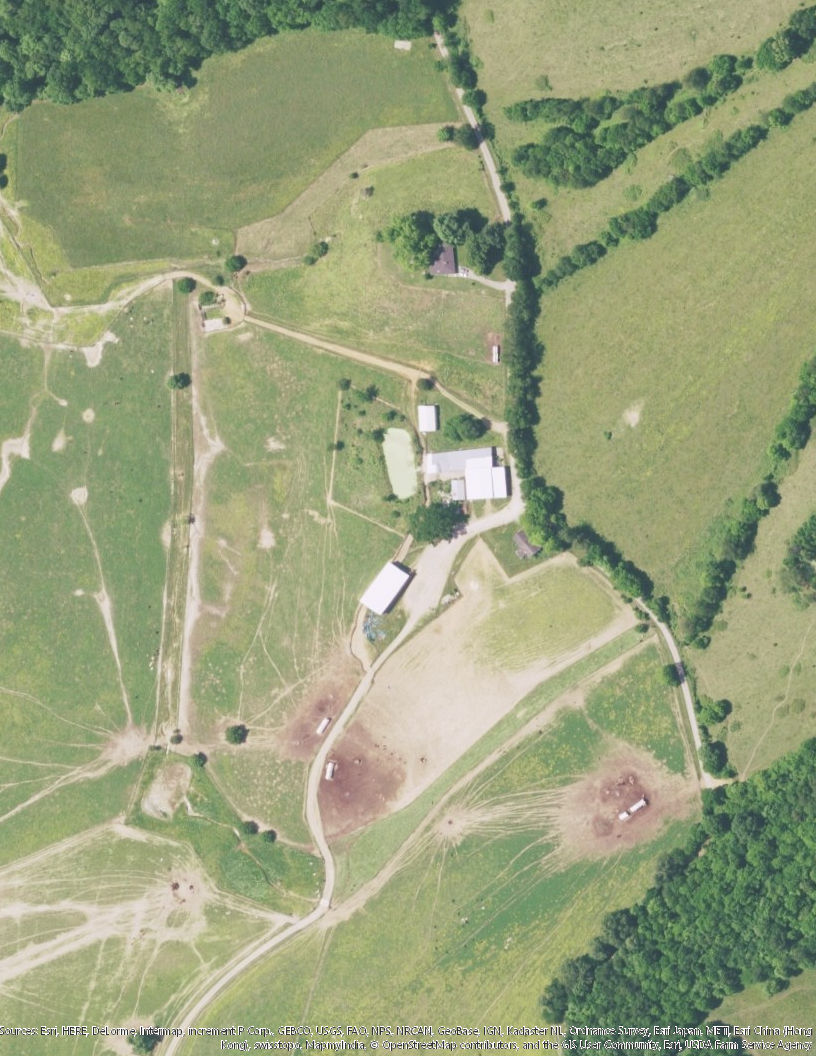cafo: (416, 446, 520, 505), (362, 556, 411, 614), (417, 400, 440, 433)
